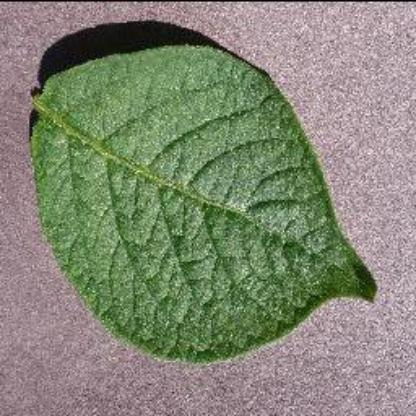Healthy-plant: (2, 35, 406, 377)
